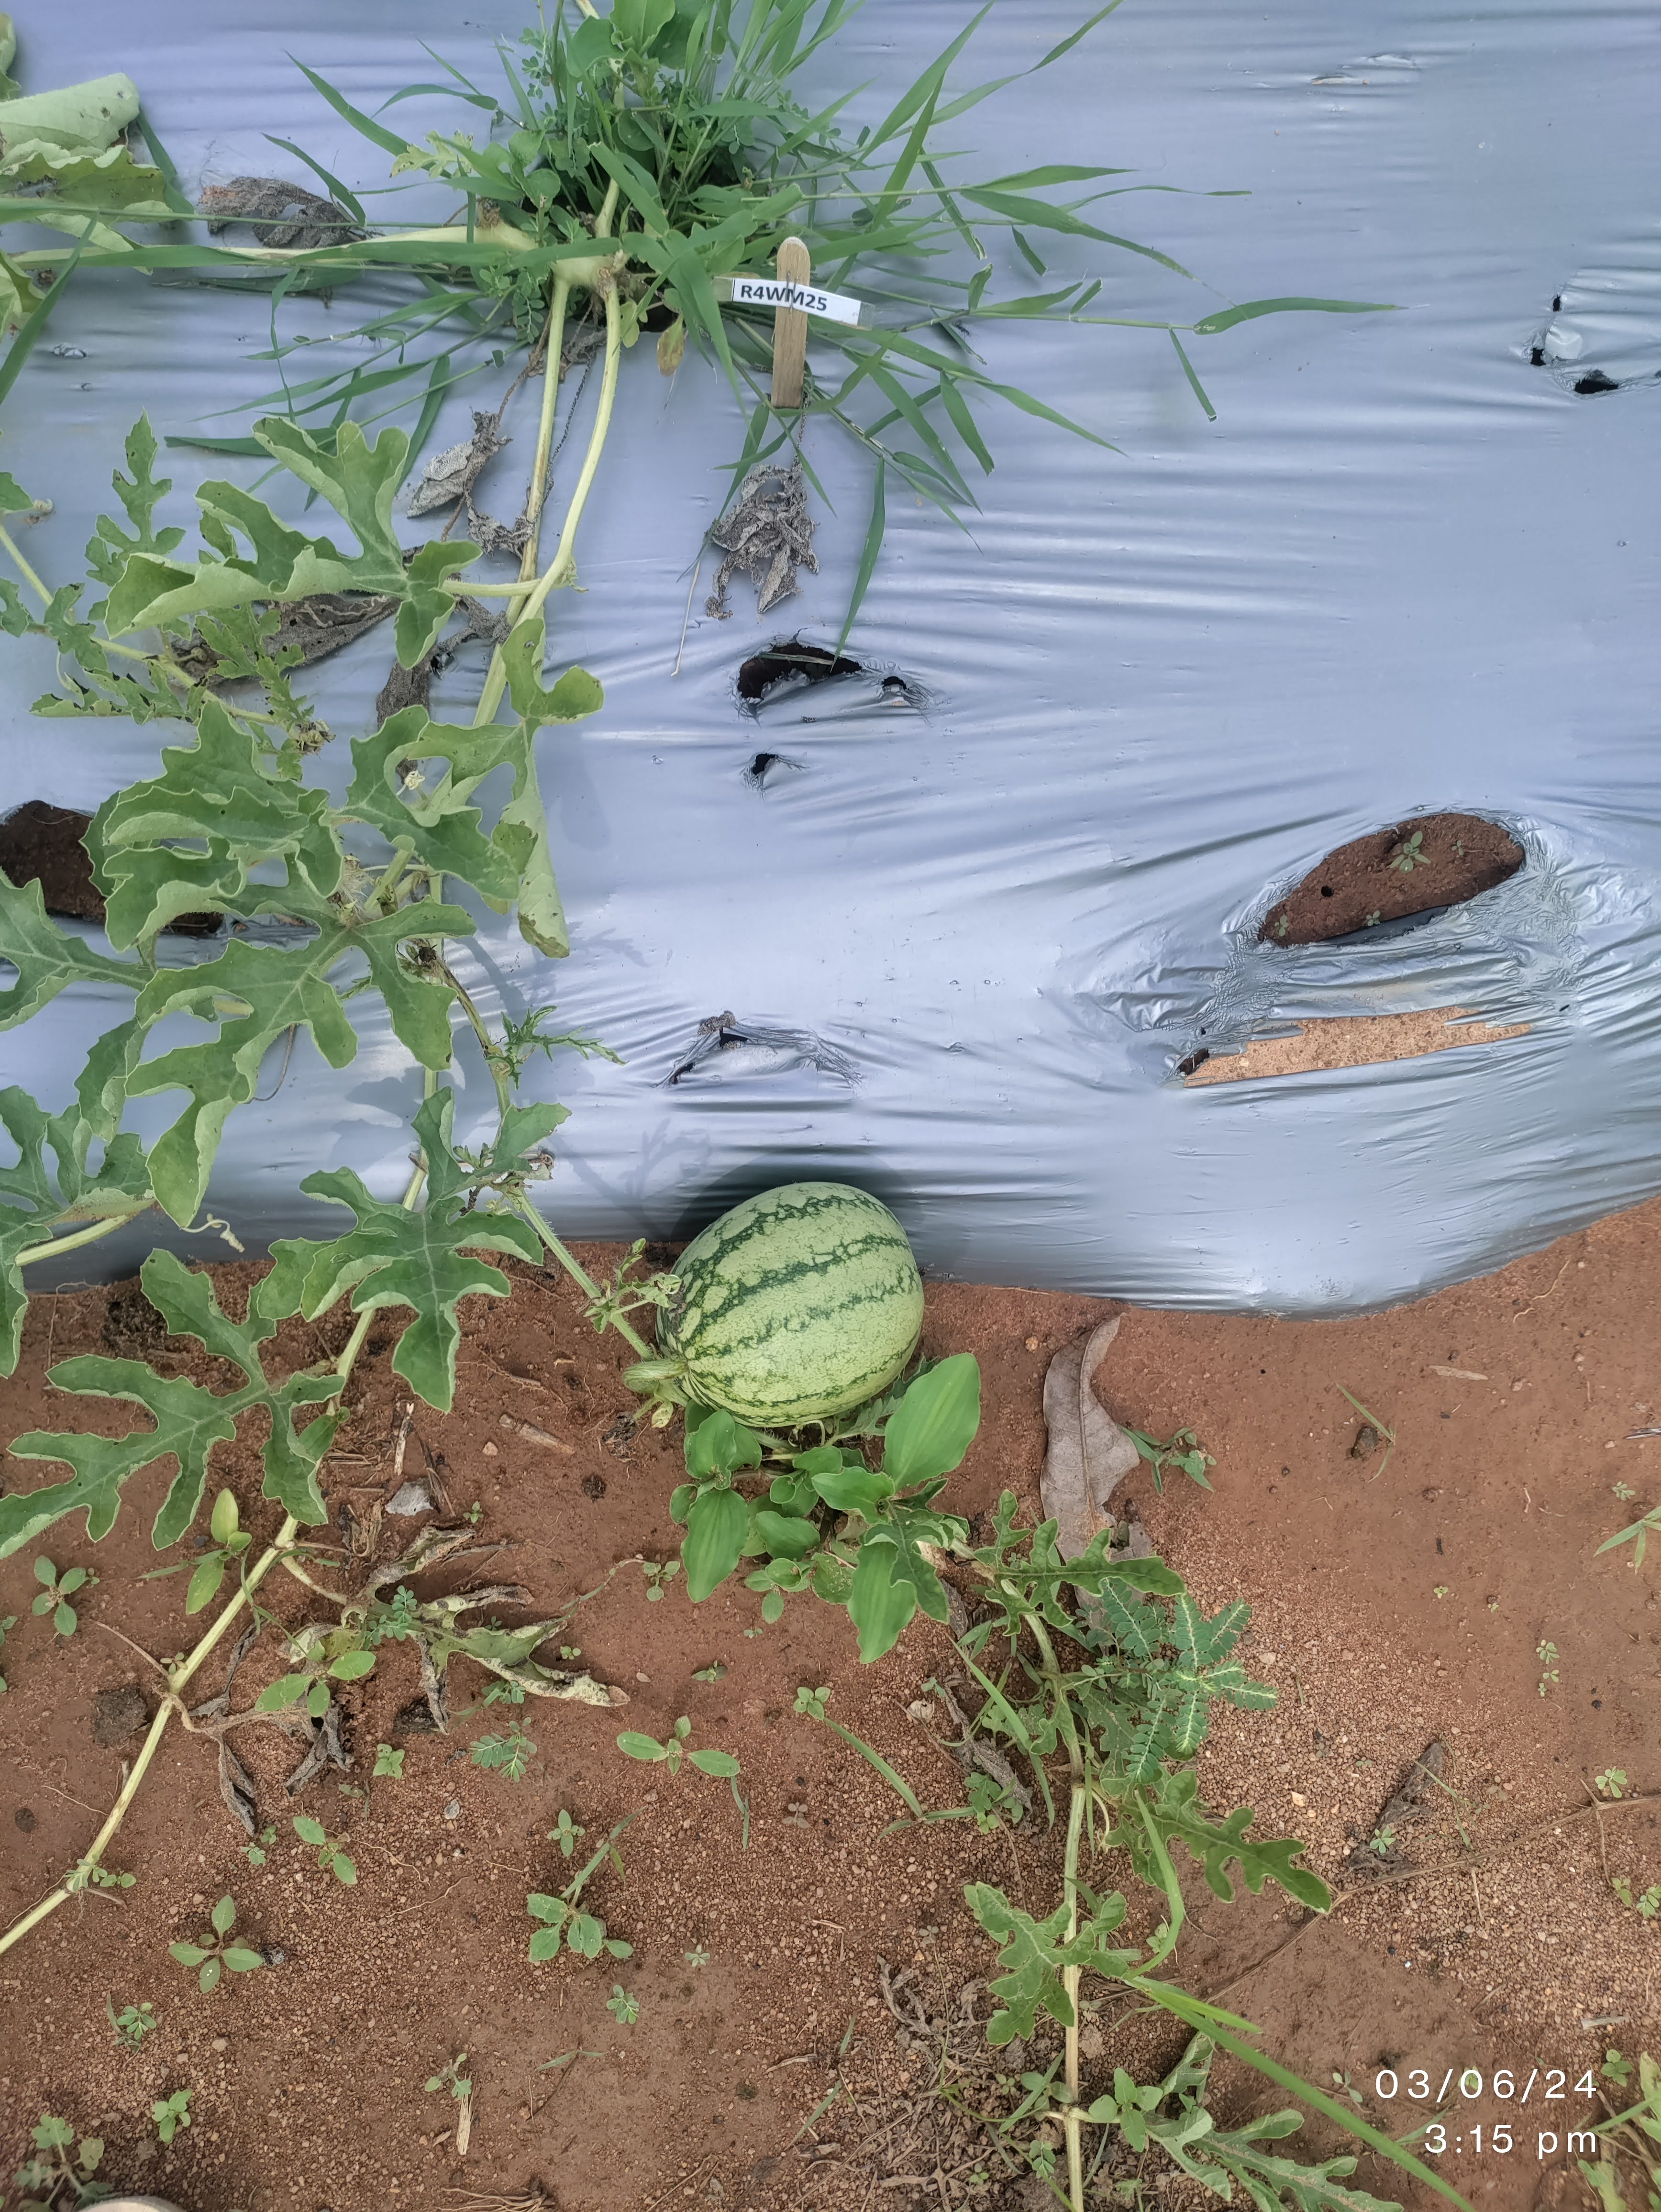not-good-to-harvest: (605, 1148, 1005, 1502)
